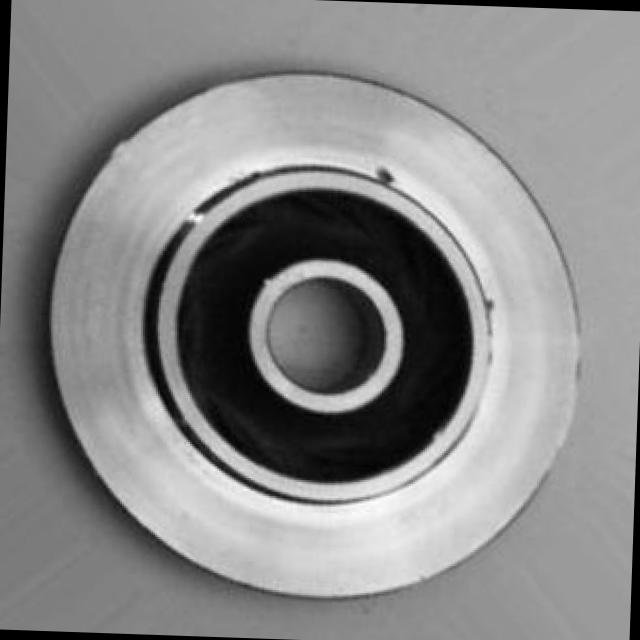Defect: (372, 158, 398, 188)
